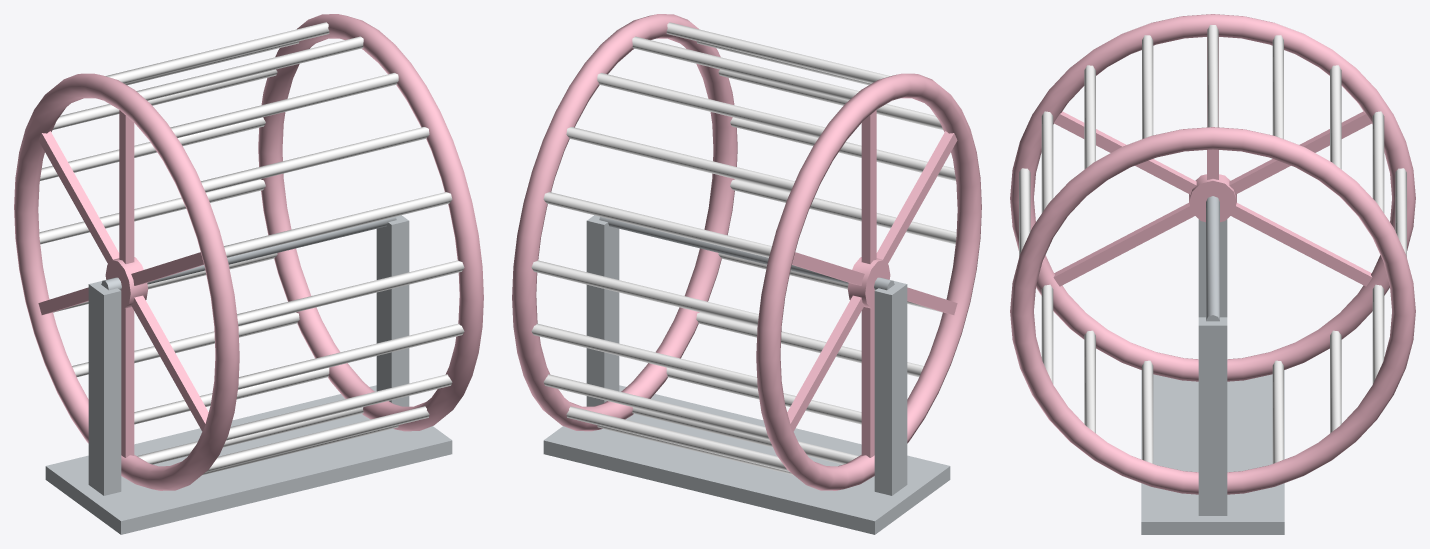
The model's file is wheel.glb.
3 views of the same model, side by side, from view 1: azimuth 30°, elevation 25°; view 2: azimuth 150°, elevation 25°; view 3: azimuth 270°, elevation 25° (orthographic). The views are drawn at different scales.
Parts seen in each view (by area): view 1: wheel_rim, wheel_rungs, wheel_stand; view 2: wheel_rim, wheel_rungs, wheel_stand; view 3: wheel_rim, wheel_stand, wheel_rungs.
Boxes of the visible parts, left/top/right/bottom form: wheel_rim: left=14, top=14, right=483, bottom=490; wheel_rungs: left=39, top=22, right=464, bottom=474; wheel_stand: left=45, top=215, right=452, bottom=534; wheel_rim: left=512, top=14, right=981, bottom=490; wheel_rungs: left=531, top=22, right=956, bottom=474; wheel_stand: left=543, top=215, right=950, bottom=534; wheel_rim: left=1010, top=14, right=1415, bottom=494; wheel_stand: left=1141, top=196, right=1284, bottom=534; wheel_rungs: left=1019, top=25, right=1406, bottom=463.
Size of the model in its own units: 0.76 by 0.895 by 0.85.
